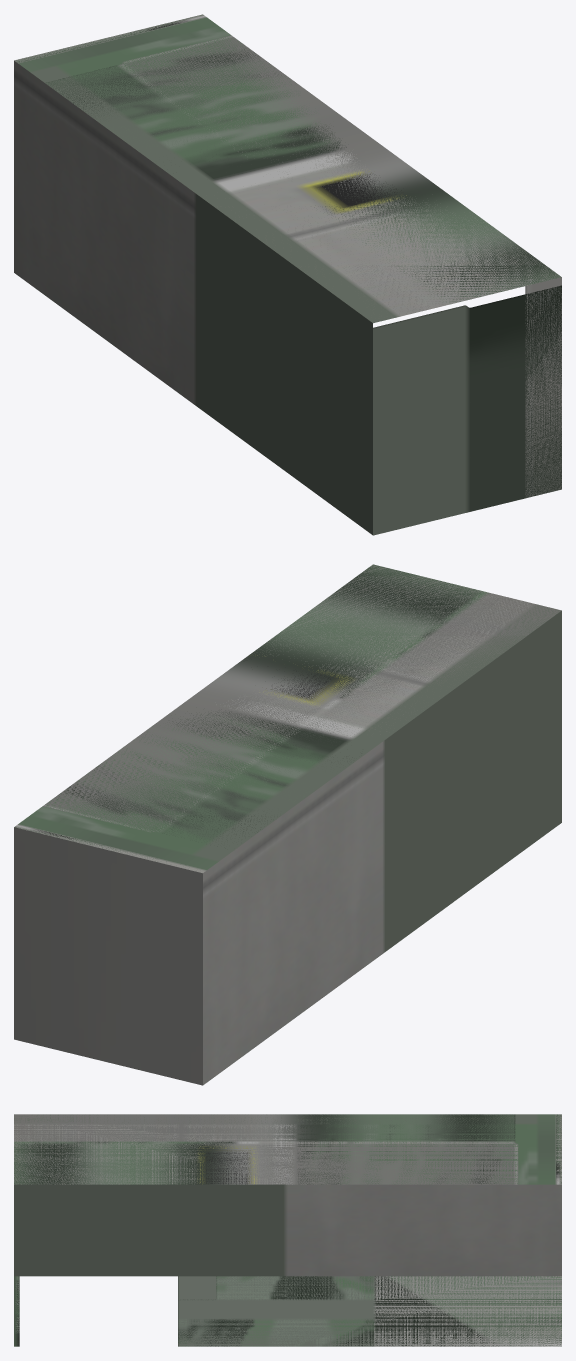
File: section-6.obj
3 views of the same model, one above another, from view 1: azimuth 30°, elevation 25°; view 2: azimuth 150°, elevation 25°; view 3: azimuth 270°, elevation 25° (orthographic). The views are drawn at different scales.
Bounding box in the file's own units: 0.5606 × 0.602 × 1.85.
